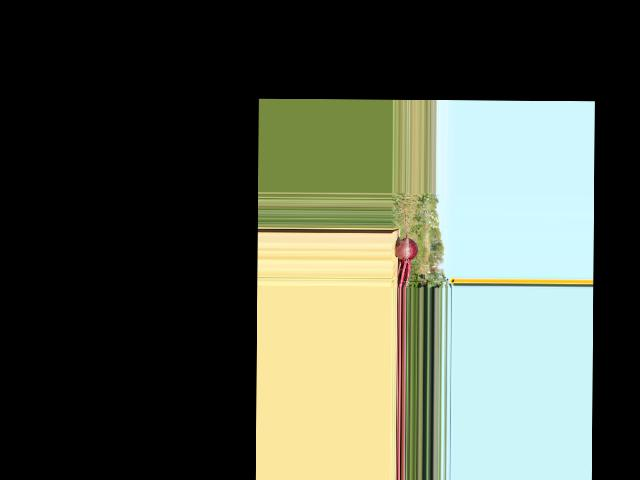beet: (394, 196, 417, 288)
